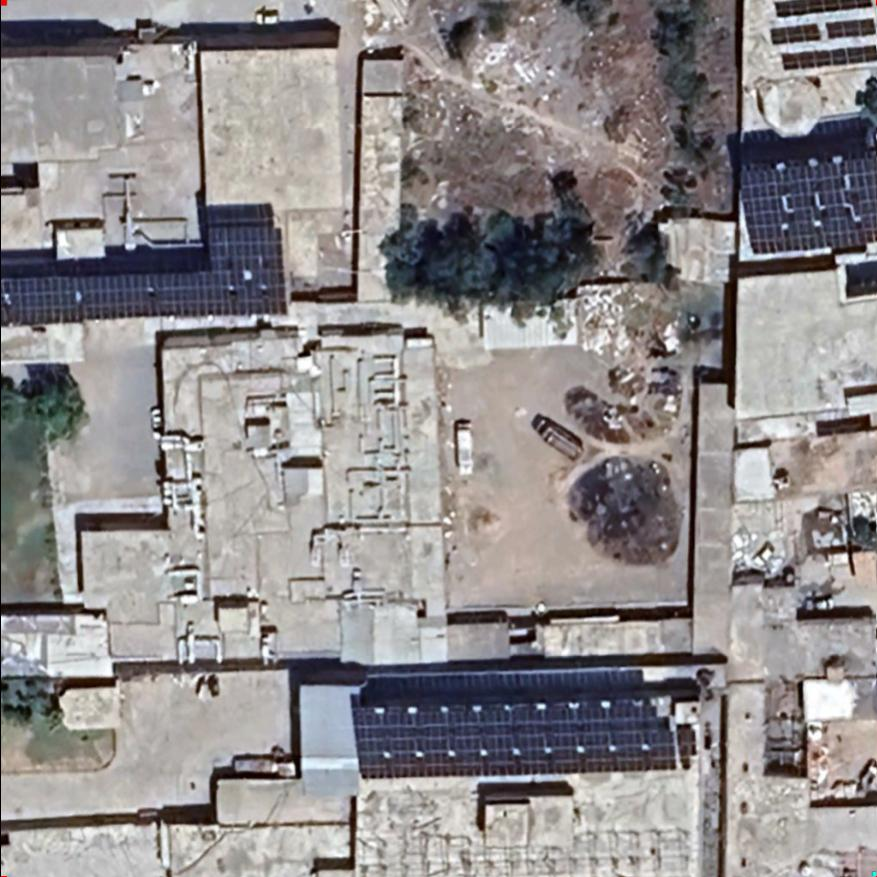Solarpanel: (350, 693, 681, 781), (733, 148, 875, 256)
